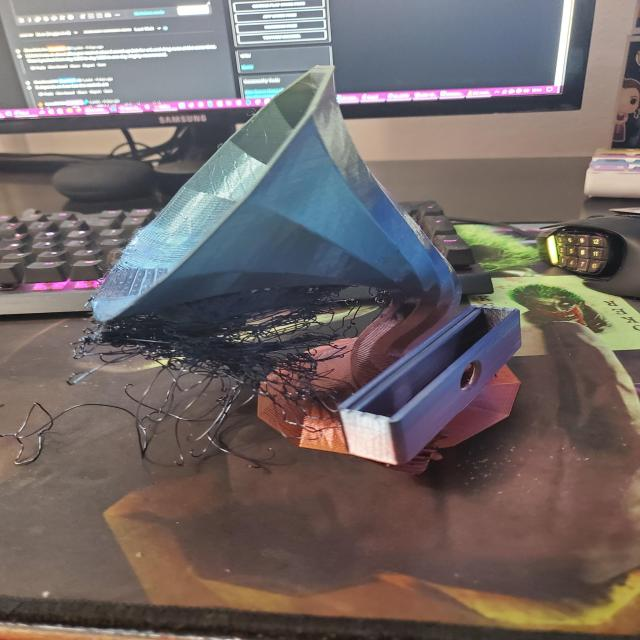spaghetti: (7, 286, 350, 468)
